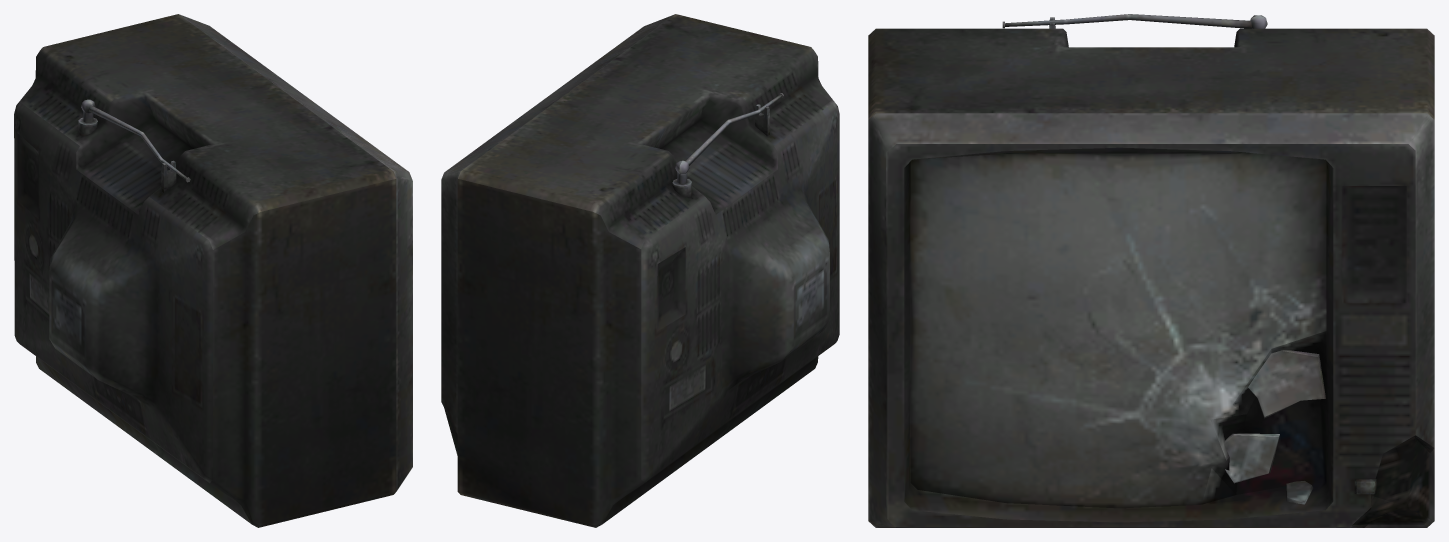
Rendered from tv_smashed.obj.
3 views of the same model, side by side, from view 1: azimuth 30°, elevation 25°; view 2: azimuth 150°, elevation 25°; view 3: azimuth 270°, elevation 25° (orthographic). The views are drawn at different scales.
Bounding box in the file's own units: 0.6083 × 0.7271 × 0.88.
1 material, 1 textured.
